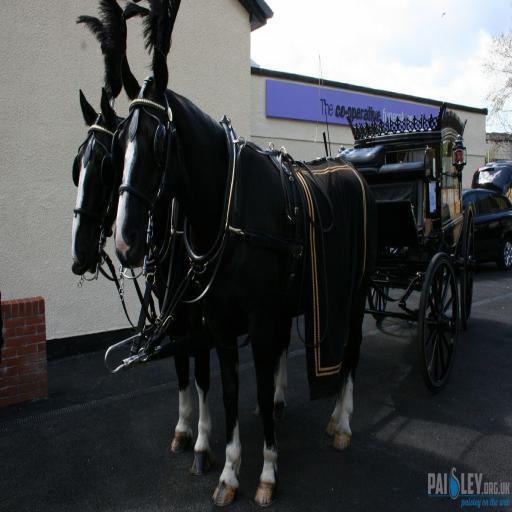horse: (116, 44, 378, 508), (73, 89, 295, 475)
